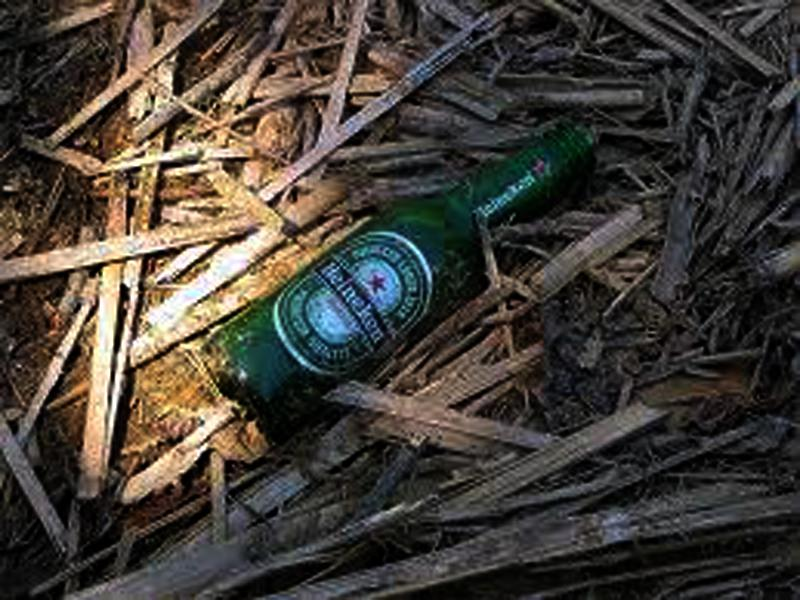Beer: (204, 127, 599, 439)
